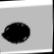correct: (0, 18, 38, 46)
